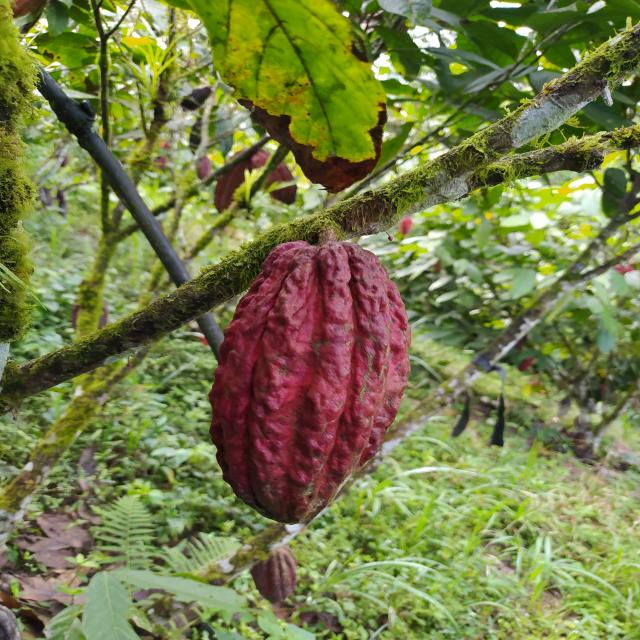Sana: (208, 238, 410, 525)
